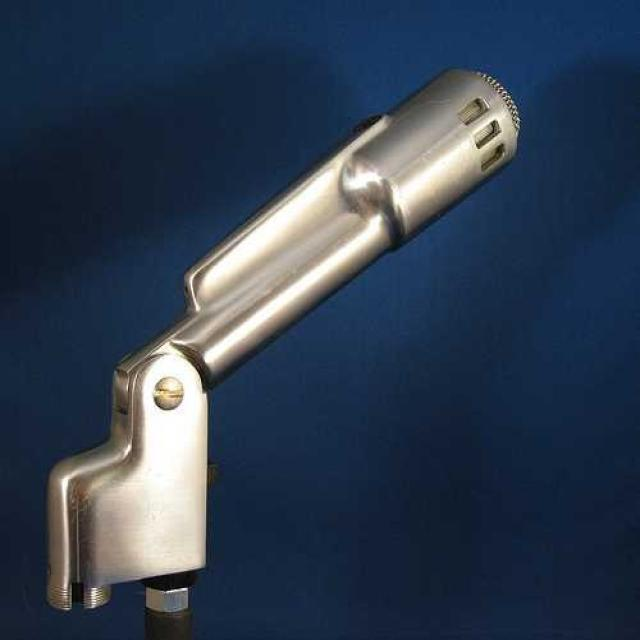microphone: (172, 59, 525, 370)
